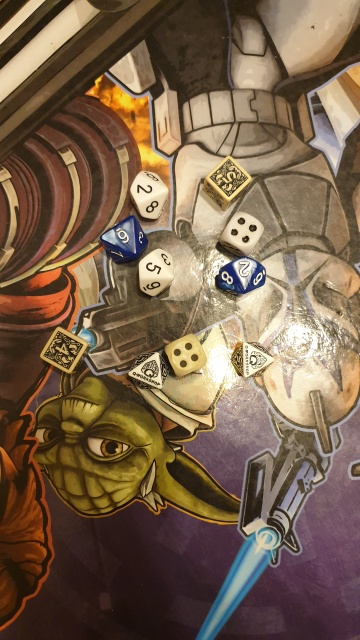d10-2: (127, 167, 171, 227), (214, 257, 271, 298)
d10-5: (135, 245, 173, 300)
d10-6: (103, 221, 139, 254)
d6-4: (218, 209, 262, 252), (161, 333, 206, 374)
d6p-4: (39, 324, 86, 374)
d6p-5: (202, 154, 252, 204)
d8p-8: (229, 337, 276, 383), (127, 350, 164, 394)
